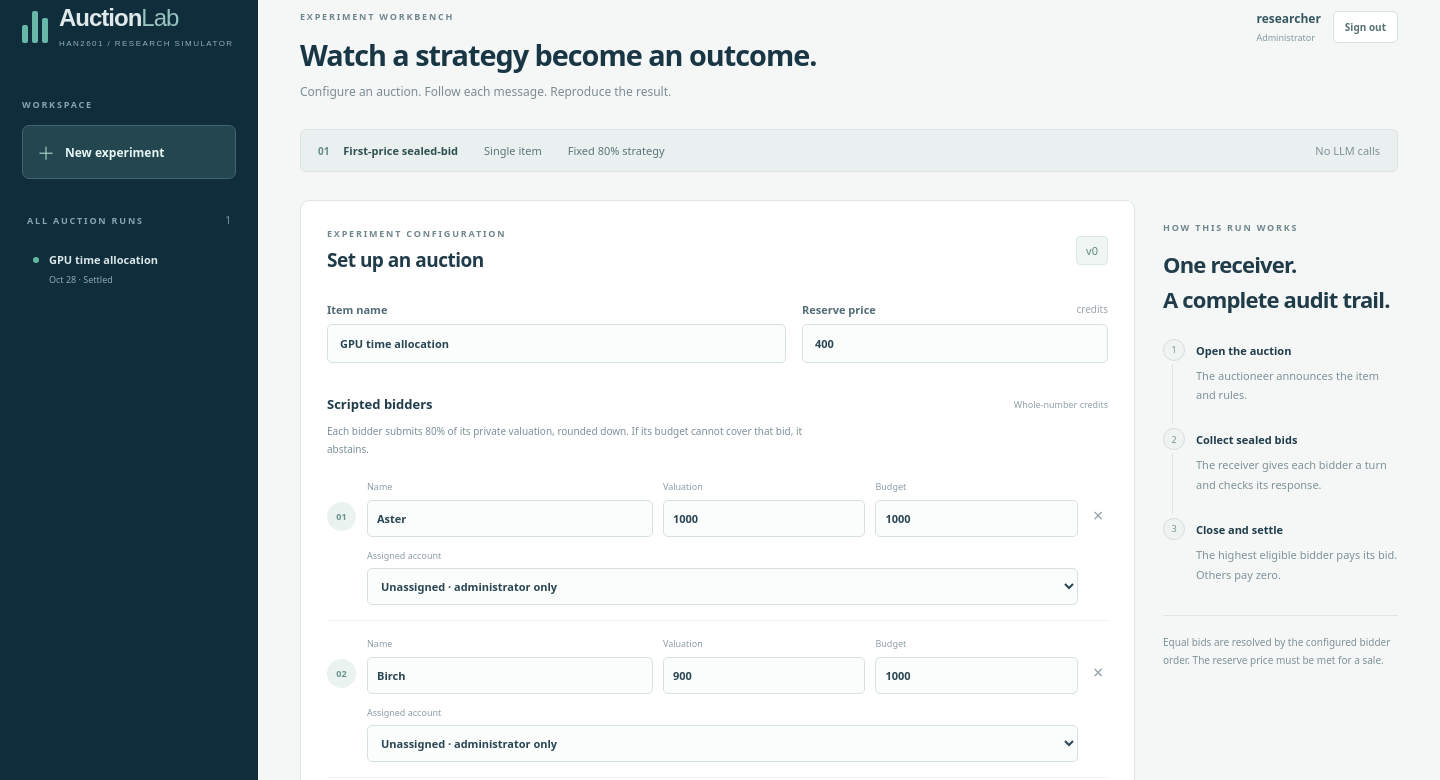
Test case: administrator workbench › replays historical state without leaking the final allocation
Click the button "GPU time allocation Oct 28 · Settled".
click(129, 269)  # box [22,240,236,298]
(page scrolled)
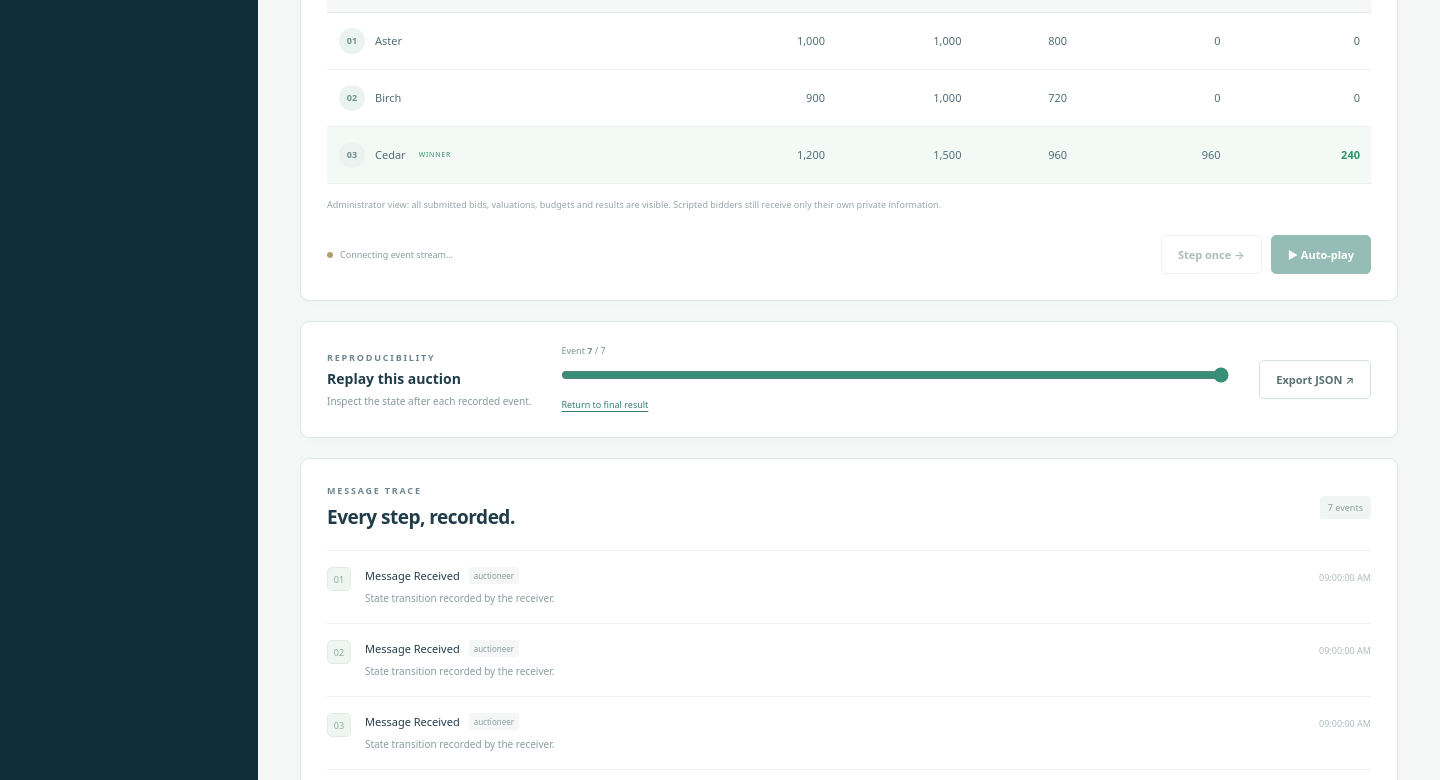
Now the text "WINNER" is shown, box [419,150,451,159]
Set the slider to "1" at (569, 375), box [561,367,1229,383]
(page scrolled)
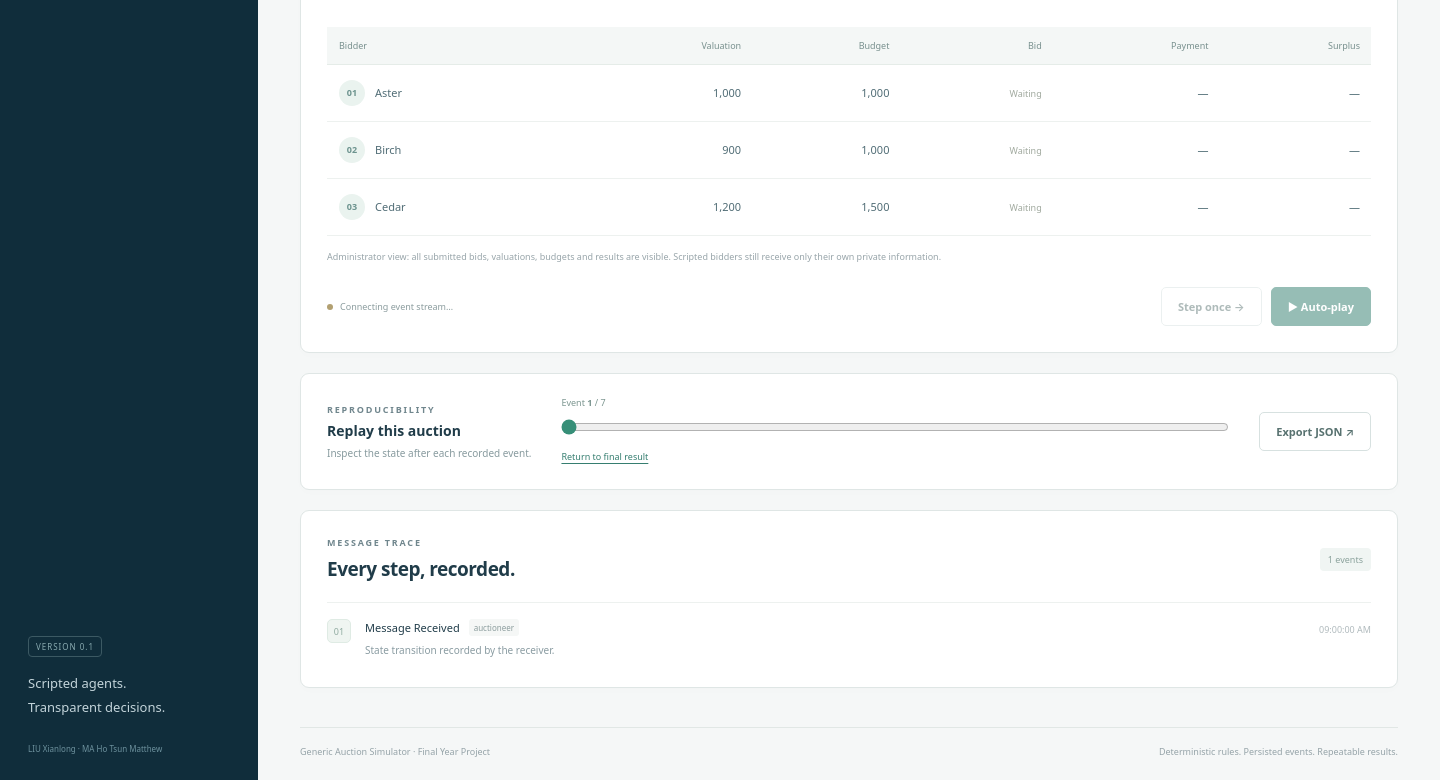
Click the button "Return to final result".
click(605, 457)  # box [561,446,648,467]
(page scrolled)
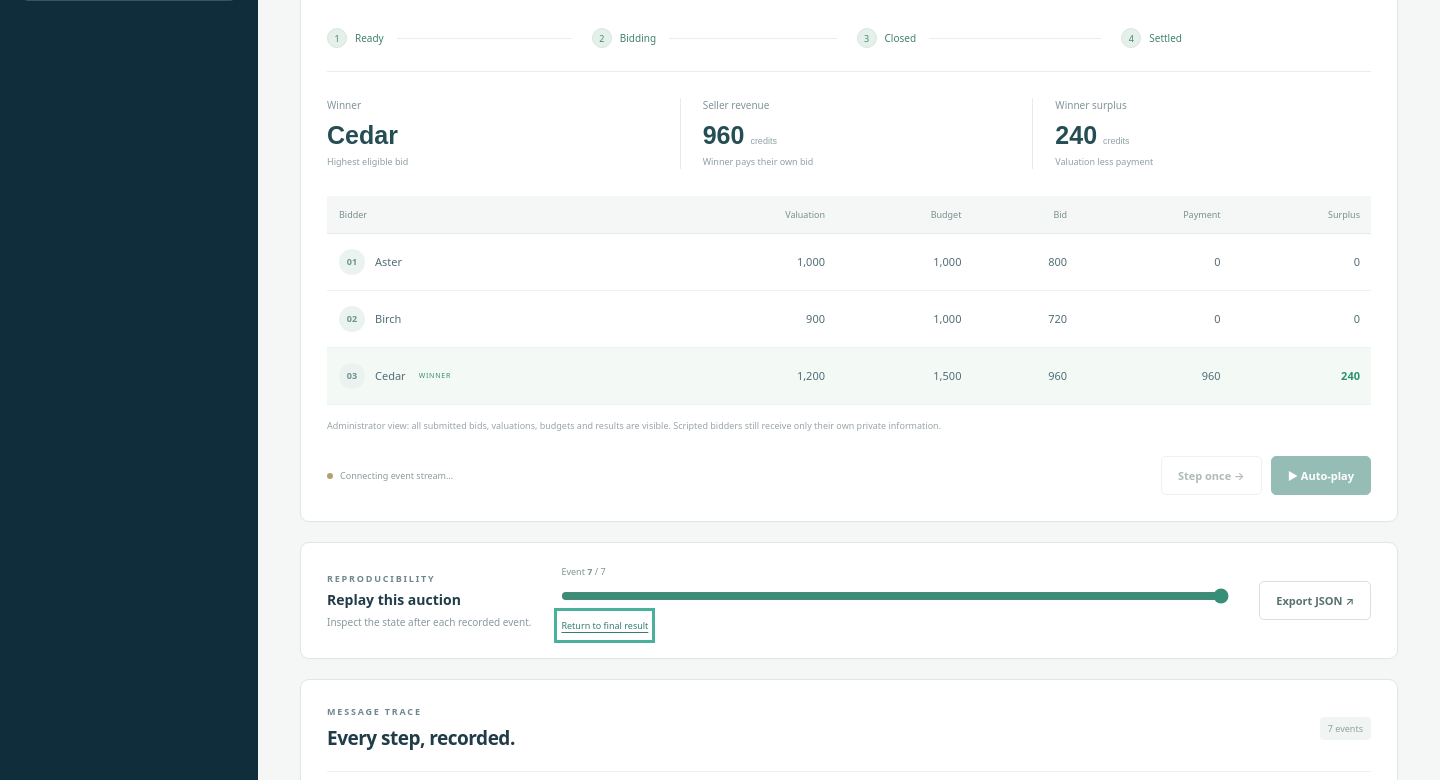
Now the text "WINNER" is shown, box [419,371,451,380]
